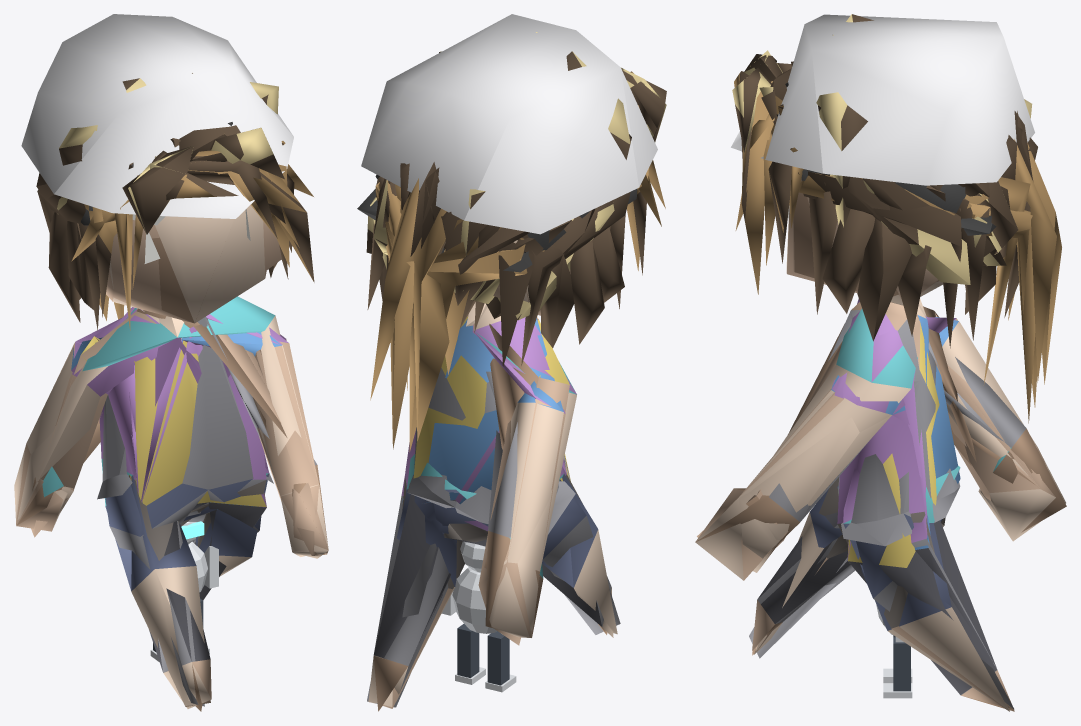
Rendered from people.glb.
3 renders of one model, left to right at view 1: azimuth 30°, elevation 25°; view 2: azimuth 150°, elevation 25°; view 3: azimuth 270°, elevation 25°, orthographic. The views are drawn at different scales.
Visible parts, largest first — view 1: p7, p5, p6, p3, p0, p1, p2, p4, rb; view 2: p7, p5, p6, p1, p3, p2, p4, p0, rb; view 3: p7, p5, p6, p0, p3, p2, p1, p4, rb.
Boxes of the visible parts, x1,y1,x2,y2 form: p7: [17, 14, 327, 706]; p5: [16, 125, 328, 698]; p6: [16, 78, 328, 706]; p3: [26, 144, 313, 708]; p0: [31, 73, 325, 705]; p1: [16, 143, 328, 706]; p2: [14, 122, 328, 661]; p4: [32, 163, 293, 711]; rb: [150, 521, 218, 661]; p7: [361, 14, 657, 706]; p5: [367, 71, 646, 661]; p6: [366, 32, 666, 707]; p1: [370, 71, 648, 695]; p3: [369, 105, 665, 707]; p2: [368, 240, 570, 701]; p4: [357, 174, 637, 711]; p0: [366, 51, 666, 708]; rb: [442, 541, 516, 692]; p7: [696, 14, 1061, 711]; p5: [696, 61, 1037, 709]; p6: [696, 14, 1066, 709]; p0: [697, 14, 1055, 711]; p3: [695, 105, 1065, 623]; p2: [696, 82, 1049, 662]; p1: [734, 73, 1044, 561]; p4: [696, 114, 1035, 711]; rb: [876, 604, 912, 698].
Bounding box in the file's own units: 1.28 × 3.19 × 1.67.
